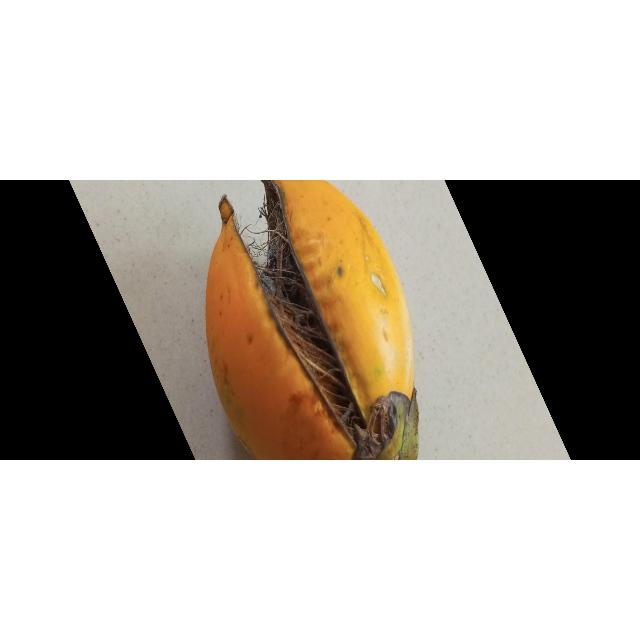damaged: (206, 180, 419, 461)
